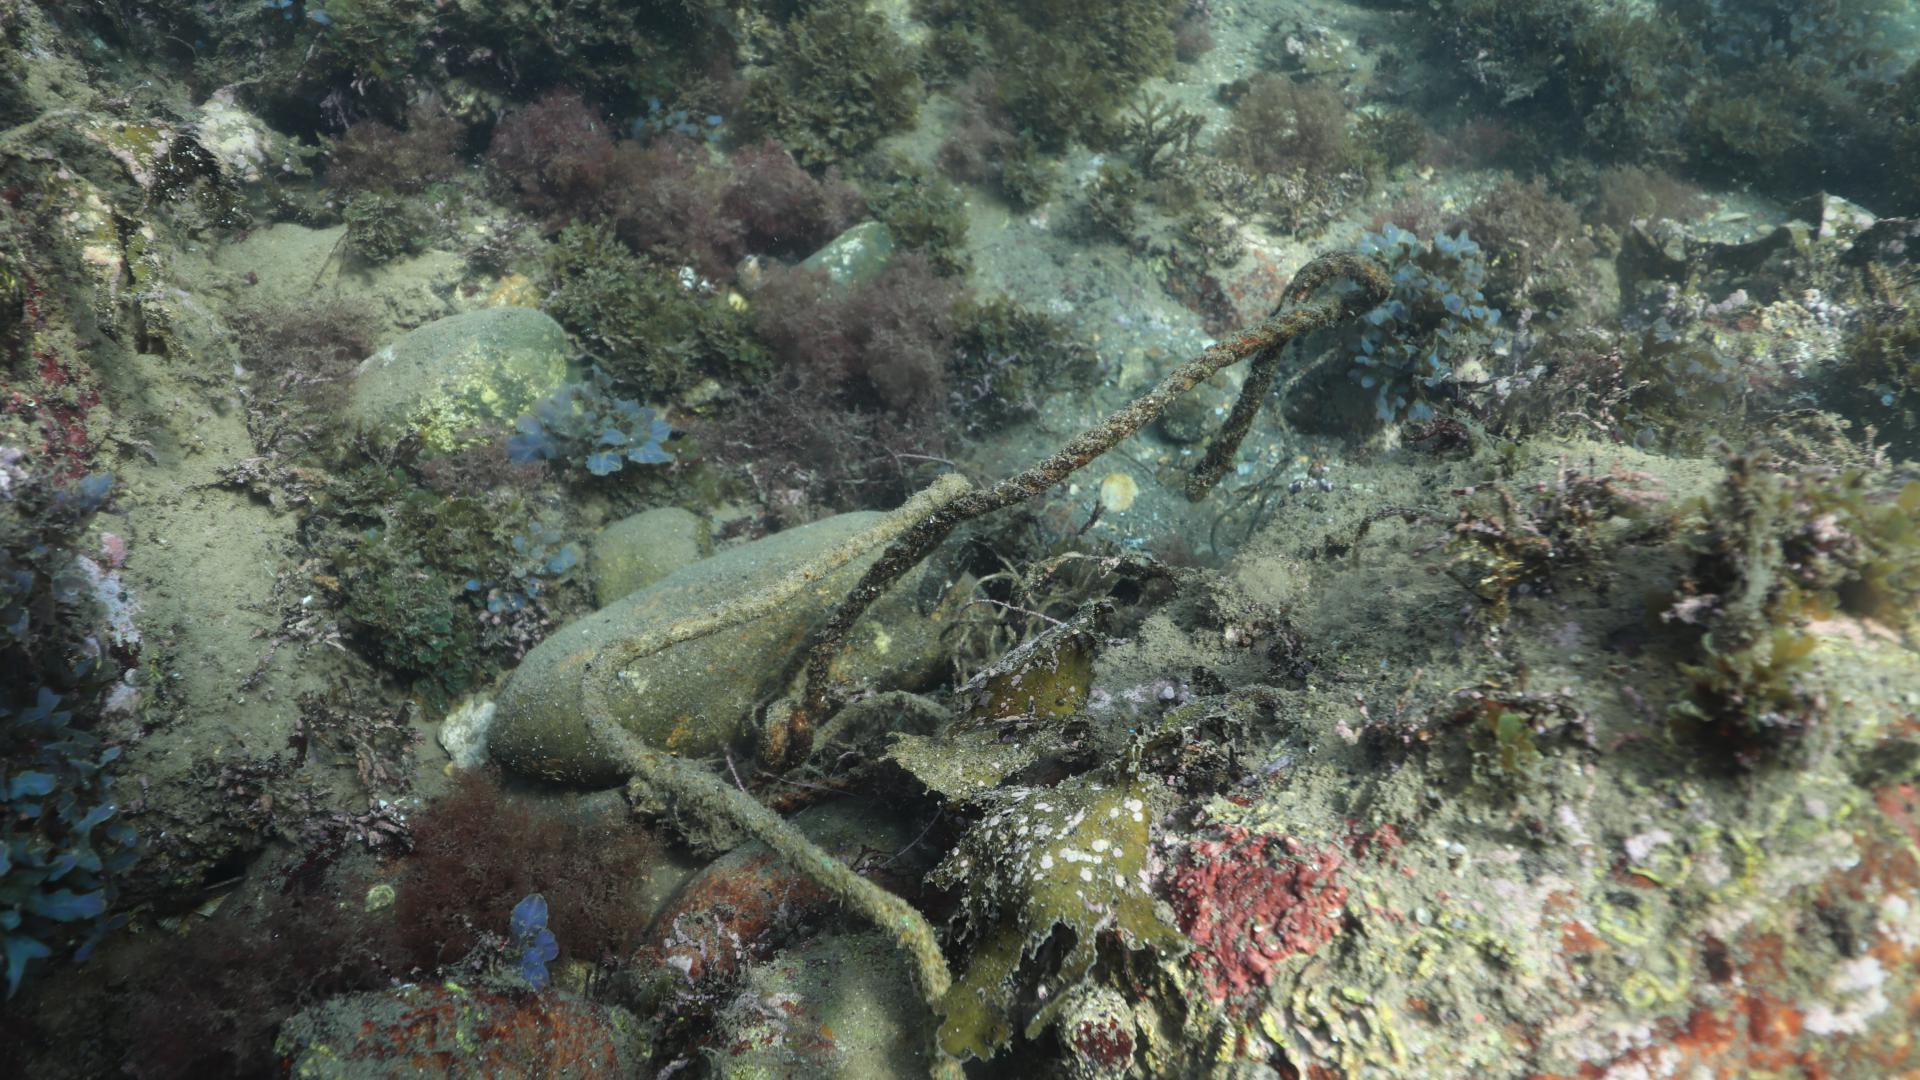rope: (802, 248, 1394, 721), (574, 468, 957, 1080)
